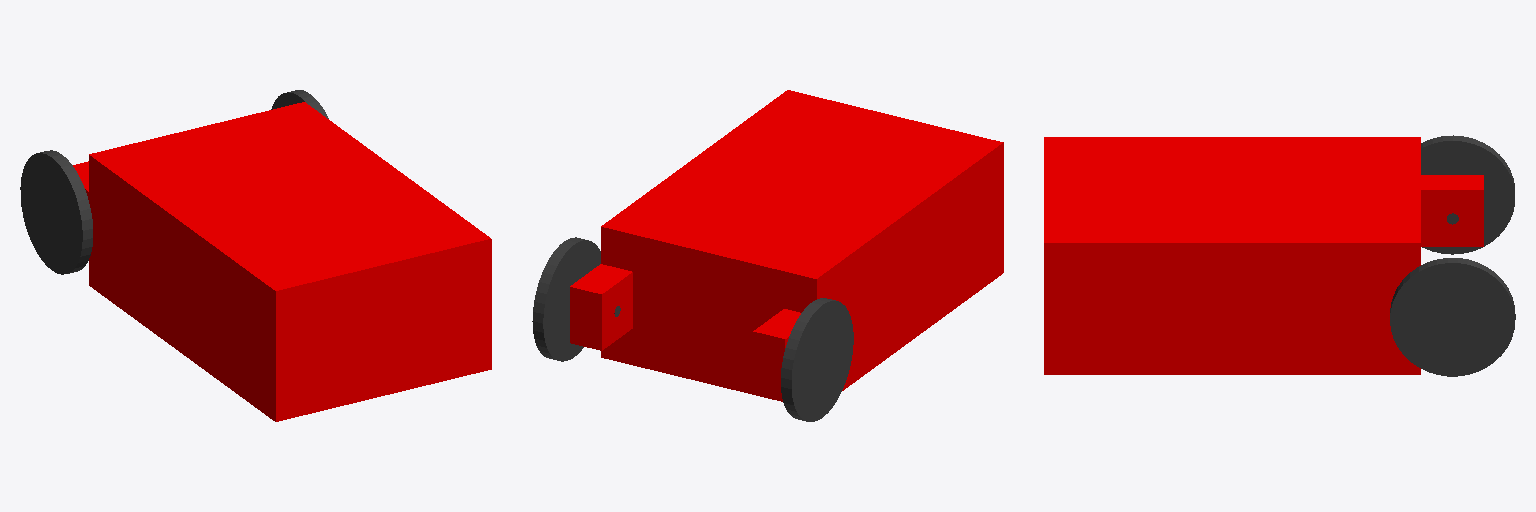
URDF robot description (robot):
<?xml version="1.0" encoding="utf-8"?>
<!-- This URDF was automatically created by SolidWorks to URDF Exporter! Originally created by [author] ([email redacted]) 
     Commit Version: 1.5.1-0-g916b5db  Build Version: 1.5.7152.31018
     For more information, please see http://wiki.ros.org/sw_urdf_exporter -->
<robot
  name="robot">
  <link
    name="Body">
    <inertial>
      <origin
        xyz="2.9281E-18 2.1948E-18 0.073211"
        rpy="0 0 0" />
      <mass
        value="0.1421" />
      <inertia
        ixx="0.00032211"
        ixy="-2.6457E-20"
        ixz="5.0212E-21"
        iyy="0.00040423"
        iyz="-9.1616E-21"
        izz="0.00016047" />
    </inertial>
    <visual>
      <origin
        xyz="0 0 0"
        rpy="0 0 0" />
      <geometry>
        <mesh
          filename="package://robot/meshes/Body.STL" />
      </geometry>
      <material
        name="">
        <color
          rgba="1 0 0 1" />
      </material>
    </visual>
    <collision>
      <origin
        xyz="0 0 0"
        rpy="0 0 0" />
      <geometry>
        <mesh
          filename="package://robot/meshes/Body.STL" />
      </geometry>
    </collision>
  </link>
  <link
    name="left_wheel">
    <inertial>
      <origin
        xyz="0.022019 0 1.7347E-18"
        rpy="0 0 0" />
      <mass
        value="0.013464" />
      <inertia
        ixx="4.0473E-06"
        ixy="-1.8323E-22"
        ixz="4.6979E-22"
        iyy="2.1457E-06"
        iyz="-1.0588E-22"
        izz="2.1457E-06" />
    </inertial>
    <visual>
      <origin
        xyz="0 0 0"
        rpy="0 0 0" />
      <geometry>
        <mesh
          filename="package://robot/meshes/left_wheel.STL" />
      </geometry>
      <material
        name="">
        <color
          rgba="0.29804 0.29804 0.29804 1" />
      </material>
    </visual>
    <collision>
      <origin
        xyz="0 0 0"
        rpy="0 0 0" />
      <geometry>
        <mesh
          filename="package://robot/meshes/left_wheel.STL" />
      </geometry>
    </collision>
  </link>
  <joint
    name="left_joint"
    type="continuous">
    <origin
      xyz="-0.035 0.0125 0"
      rpy="1.0038 0 -3.1416" />
    <parent
      link="Body" />
    <child
      link="left_wheel" />
    <axis
      xyz="-1 0 0" />
  </joint>
  <link
    name="right_wheel">
    <inertial>
      <origin
        xyz="0.022019 8.6736E-19 1.7347E-18"
        rpy="0 0 0" />
      <mass
        value="0.013464" />
      <inertia
        ixx="4.0473E-06"
        ixy="-1.3548E-23"
        ixz="2.2109E-22"
        iyy="2.1457E-06"
        iyz="-2.1176E-22"
        izz="2.1457E-06" />
    </inertial>
    <visual>
      <origin
        xyz="0 0 0"
        rpy="0 0 0" />
      <geometry>
        <mesh
          filename="package://robot/meshes/right_wheel.STL" />
      </geometry>
      <material
        name="">
        <color
          rgba="0.29804 0.29804 0.29804 1" />
      </material>
    </visual>
    <collision>
      <origin
        xyz="0 0 0"
        rpy="0 0 0" />
      <geometry>
        <mesh
          filename="package://robot/meshes/right_wheel.STL" />
      </geometry>
    </collision>
  </link>
  <joint
    name="right_joint"
    type="continuous">
    <origin
      xyz="0.035 0.0125 0"
      rpy="1.8984 0 0" />
    <parent
      link="Body" />
    <child
      link="right_wheel" />
    <axis
      xyz="-1 0 0" />
  </joint>
</robot>

--- Facts derived from the render (not from the file) ---
The picture shows the robot from 3 angles, left to right: view 1: azimuth 30°, elevation 25°; view 2: azimuth 150°, elevation 25°; view 3: azimuth 270°, elevation 25°; orthographic projection.
Model robot with 3 links and 2 joints (2 continuous), rooted at Body, posed every joint at zero.
Links seen in each view (by area): view 1: Body, left_wheel, right_wheel; view 2: Body, left_wheel, right_wheel; view 3: Body, right_wheel, left_wheel.
Link boxes in pixels (x1,y1,x2,y2): Body: (73, 102, 491, 421); left_wheel: (20, 150, 92, 274); right_wheel: (271, 90, 328, 118); Body: (570, 90, 1003, 401); left_wheel: (781, 298, 853, 421); right_wheel: (532, 237, 620, 361); Body: (1044, 137, 1483, 374); right_wheel: (1390, 258, 1515, 376); left_wheel: (1421, 135, 1514, 254).
Size in the robot's own frame: 0.12 by 0.1875 by 0.058 metres.
3 mesh visuals loaded from 3 distinct referenced files (3 binary STL).